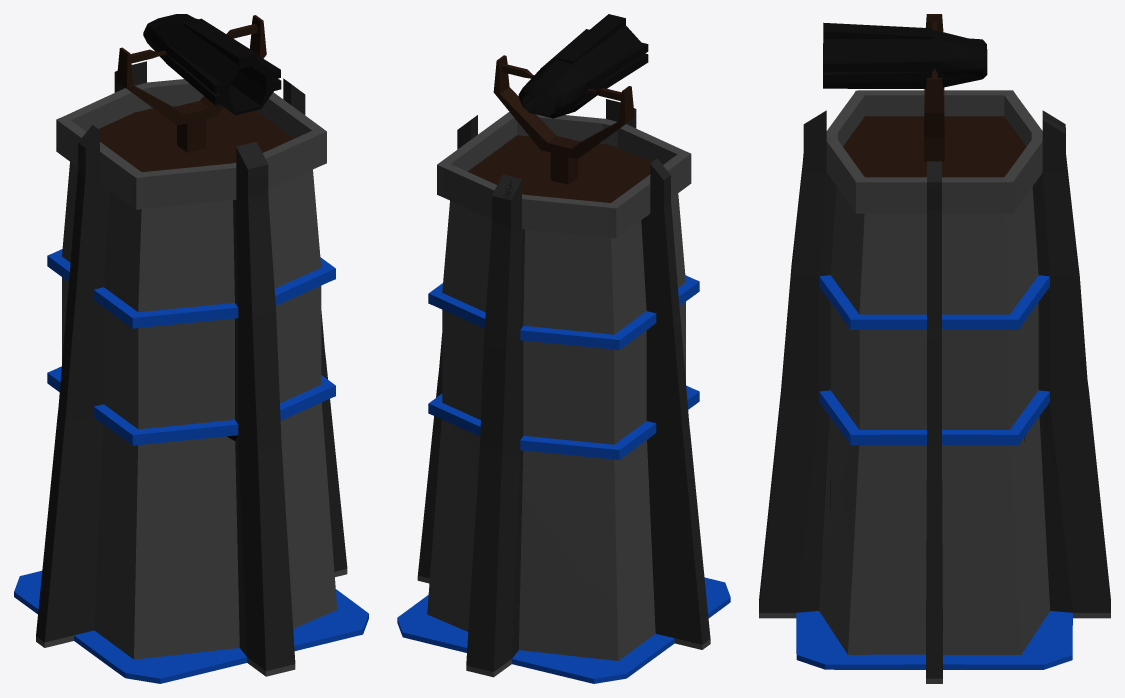
The model's file is cannon_tower_fractured.FBX.
The picture shows the model from 3 angles, left to right: view 1: azimuth 30°, elevation 25°; view 2: azimuth 150°, elevation 25°; view 3: azimuth 270°, elevation 25°; orthographic projection. The views are drawn at different scales.
Visible parts, largest first — view 1: Box001_Part_5, Box001_Part_10, Box001_Part_8, Box001_Part_6, Box001_Part_4, Box001_Part_3, Box001_Part_7, Box001_Part_2, Box001_Part_1, Box001_Part_9; view 2: Box001_Part_8, Box001_Part_3, Box001_Part_6, Box001_Part_5, Box001_Part_9, Box001_Part_2, Box001_Part_7, Box001_Part_4; view 3: Box001_Part_5, Box001_Part_2, Box001_Part_9, Box001_Part_7, Box001_Part_3, Box001_Part_4, Box001_Part_10, Box001_Part_6, Box001_Part_8, Box001_Part_1.
Part boxes in pixels (x1,y1,x2,y2): Box001_Part_5: [78, 15, 326, 395]; Box001_Part_10: [115, 417, 293, 683]; Box001_Part_8: [14, 366, 148, 647]; Box001_Part_6: [47, 217, 232, 440]; Box001_Part_4: [82, 542, 368, 683]; Box001_Part_3: [56, 14, 305, 251]; Box001_Part_7: [192, 347, 340, 511]; Box001_Part_2: [232, 220, 335, 373]; Box001_Part_1: [283, 479, 332, 547]; Box001_Part_9: [329, 504, 347, 576]; Box001_Part_8: [469, 396, 710, 683]; Box001_Part_3: [437, 79, 675, 342]; Box001_Part_6: [461, 262, 699, 459]; Box001_Part_5: [473, 14, 699, 295]; Box001_Part_9: [397, 455, 575, 677]; Box001_Part_2: [428, 265, 472, 435]; Box001_Part_7: [425, 371, 471, 500]; Box001_Part_4: [704, 577, 730, 617]; Box001_Part_5: [785, 14, 968, 341]; Box001_Part_2: [804, 220, 1033, 450]; Box001_Part_9: [902, 454, 1110, 683]; Box001_Part_7: [781, 339, 1024, 610]; Box001_Part_3: [913, 38, 1079, 313]; Box001_Part_4: [759, 539, 911, 669]; Box001_Part_10: [760, 365, 830, 587]; Box001_Part_6: [1022, 265, 1088, 423]; Box001_Part_8: [1024, 387, 1102, 519]; Box001_Part_1: [830, 441, 925, 618].
Bounding box in the file's own units: 117 × 220 × 120.
